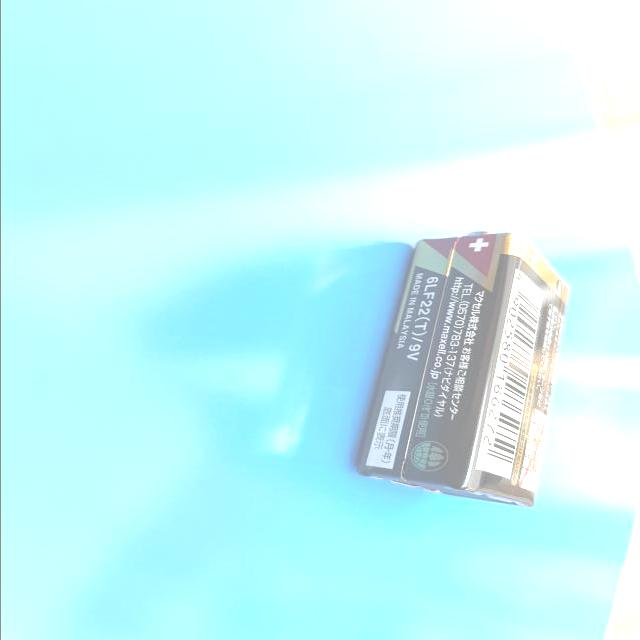9V: (398, 230, 569, 509), (349, 236, 461, 489)
